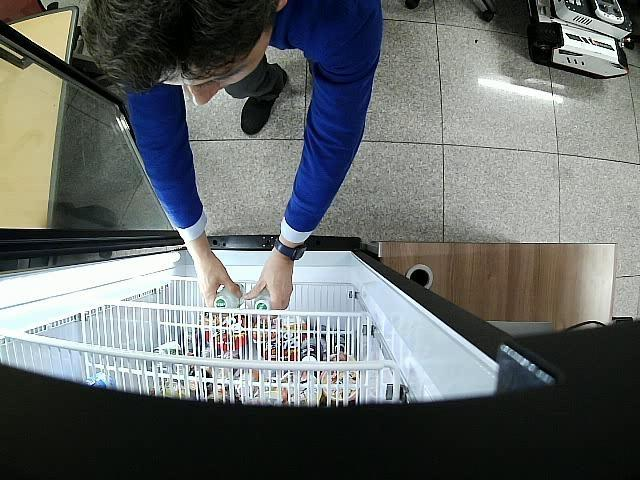18_trevi: (214, 283, 244, 308), (255, 285, 269, 310)
